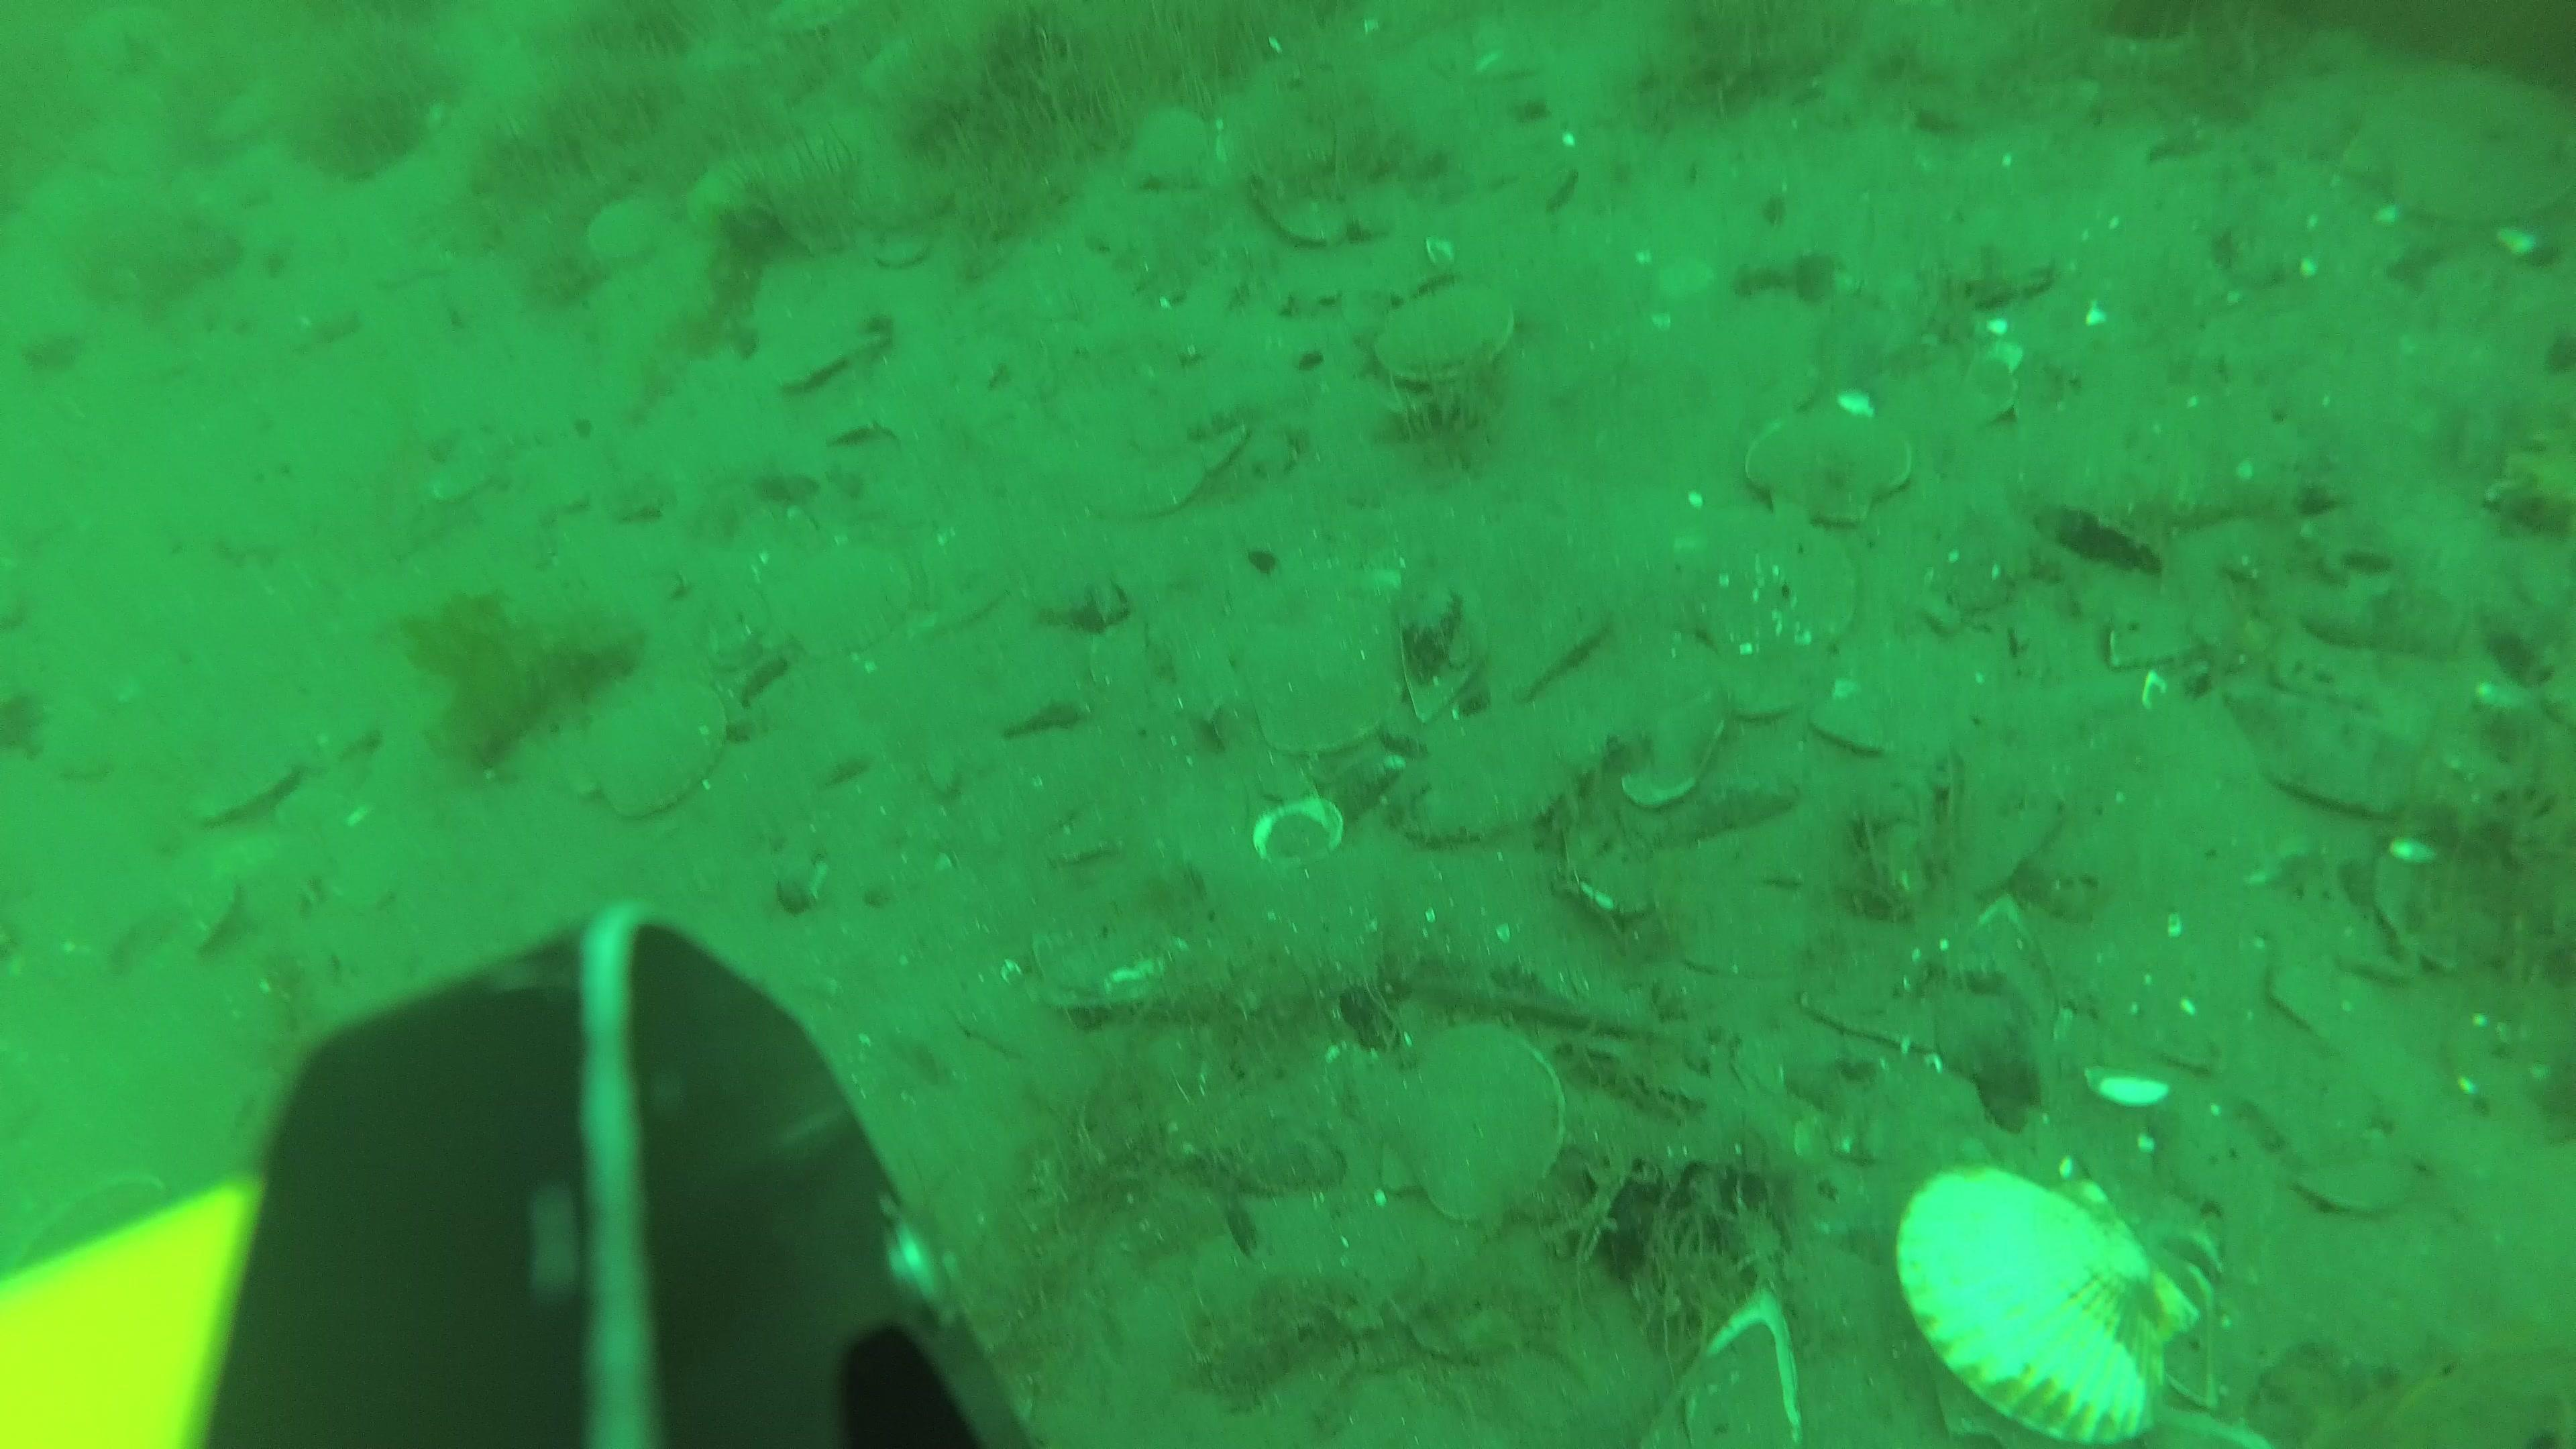scallop: (1904, 1169, 2213, 1445), (1387, 1016, 1573, 1238), (2357, 65, 2576, 237), (1247, 594, 1401, 757), (1753, 412, 1928, 547), (1691, 513, 1854, 644), (587, 679, 727, 828), (1483, 593, 1601, 722), (1373, 283, 1516, 384), (784, 315, 897, 405), (2295, 1143, 2419, 1219), (186, 757, 304, 833), (1123, 106, 1212, 196), (582, 189, 679, 267)
